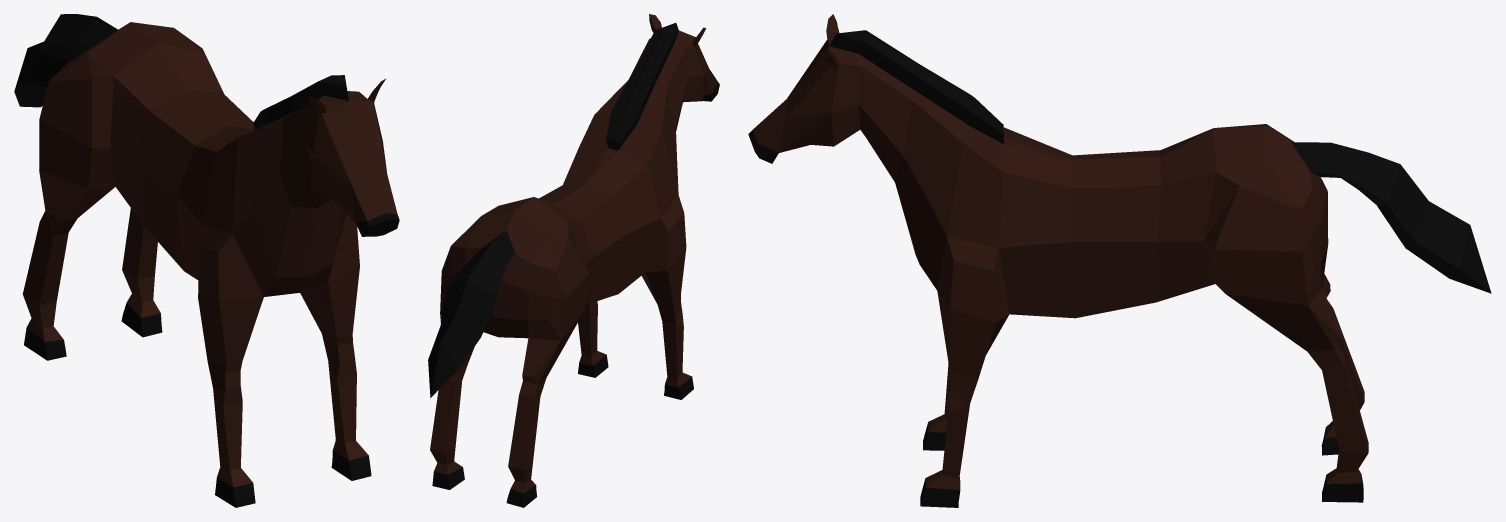
The model's file is Horse_000033.obj.
3 views of the same model, side by side, from view 1: azimuth 30°, elevation 25°; view 2: azimuth 150°, elevation 25°; view 3: azimuth 270°, elevation 25° (orthographic). The views are drawn at different scales.
Parts seen in each view (by area): view 1: Horse_Cylinder; view 2: Horse_Cylinder; view 3: Horse_Cylinder.
Part boxes in pixels (x1,y1,x2,y2): Horse_Cylinder: (14, 14, 399, 507); Horse_Cylinder: (428, 14, 719, 507); Horse_Cylinder: (748, 14, 1491, 507).
Bounding box in the file's own units: 2.56 × 6.78 × 10.35.
